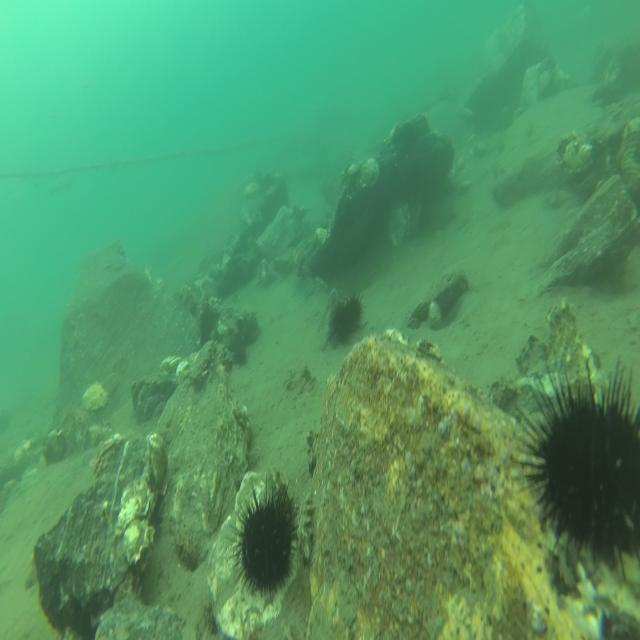echinus: (510, 356, 640, 585), (228, 474, 301, 600), (346, 291, 366, 327), (333, 305, 348, 342), (402, 122, 418, 152), (233, 346, 250, 366)
